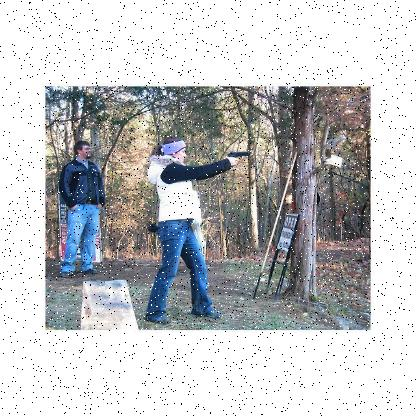gun: (224, 150, 249, 170)
